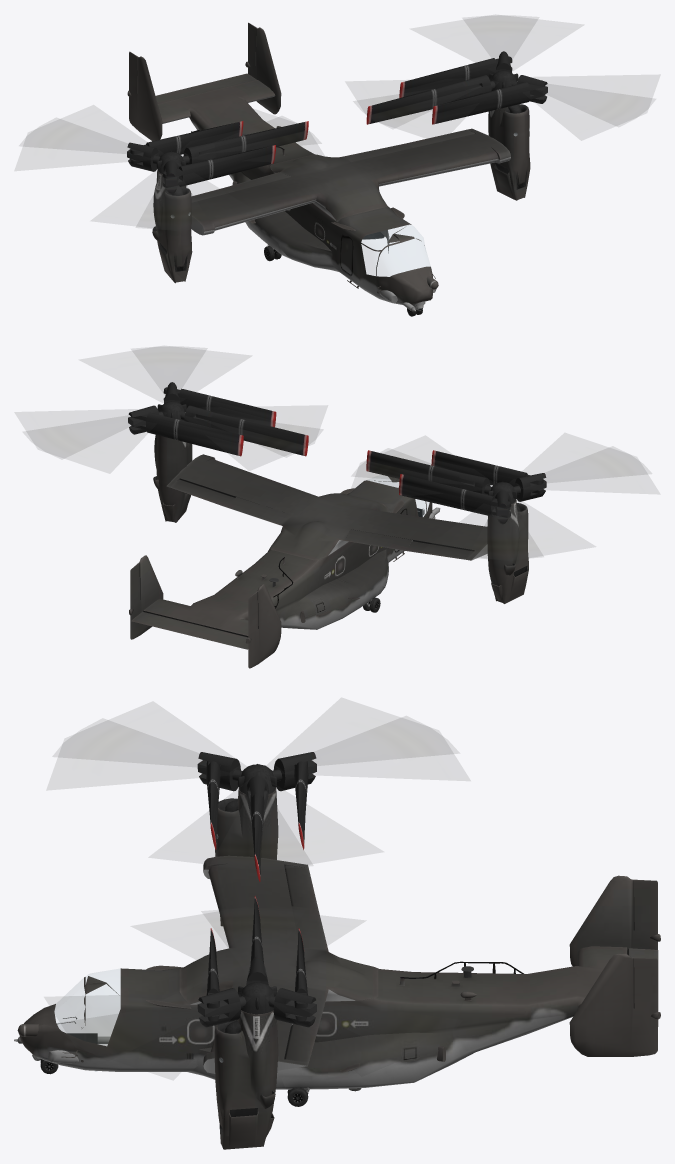
Rendered from transport_heli_v22.glb.
3 renders of one model, top to bottom at view 1: azimuth 30°, elevation 25°; view 2: azimuth 150°, elevation 25°; view 3: azimuth 270°, elevation 25°, orthographic. The views are drawn at different scales.
Visible parts, largest first — view 1: Bullet; view 2: Bullet; view 3: Bullet.
Part boxes in pixels (left/top/right/bottom): Bullet: left=15, top=15, right=659, bottom=316; Bullet: left=15, top=346, right=659, bottom=668; Bullet: left=14, top=698, right=660, bottom=1149.
Bounding box in the file's own units: 24.54 × 5.89 × 17.5.
3 materials, 3 textured.
